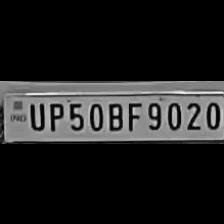0: (202, 99, 222, 129), (86, 99, 104, 131), (164, 98, 182, 130)
2: (181, 98, 201, 130)
5: (65, 97, 85, 130)
9: (144, 98, 162, 130)
B: (104, 99, 124, 131)
F: (124, 97, 142, 130)
P: (44, 99, 64, 131)
U: (25, 99, 45, 131)
